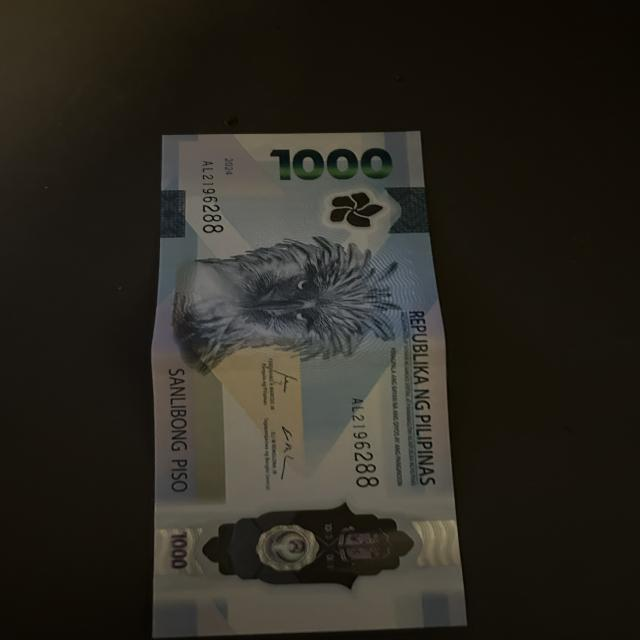clear_window: (216, 505, 421, 584)
eagle: (179, 243, 392, 356)
sampaguita: (326, 185, 392, 238)
